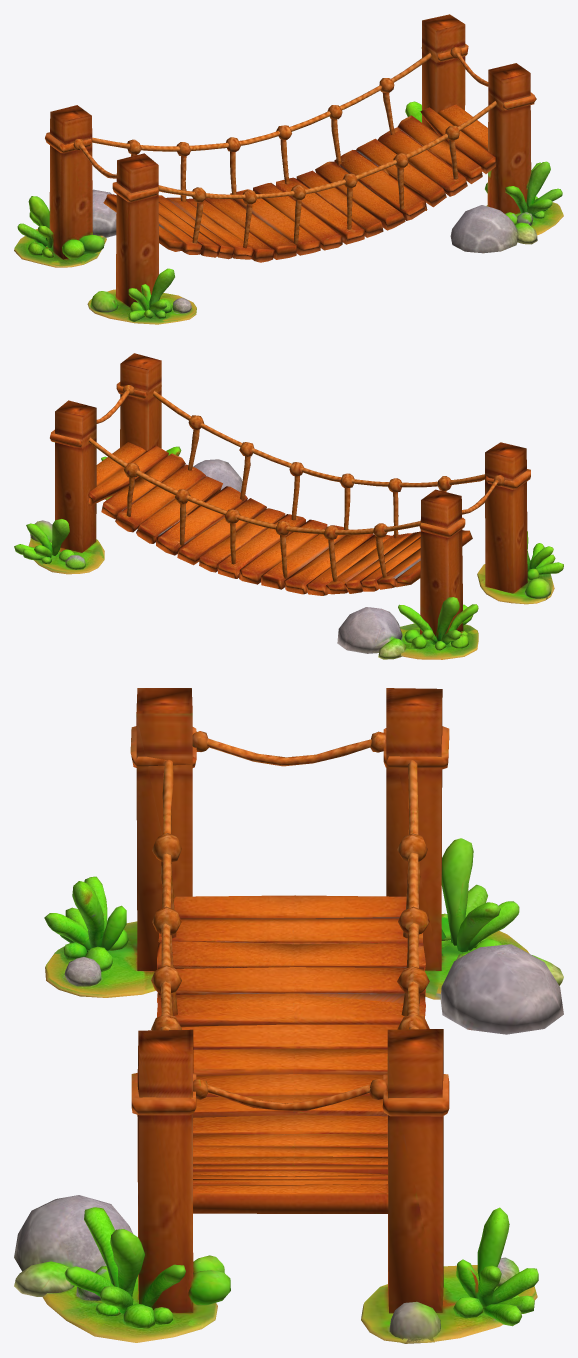
File: r2c6_rope_bridge.glb
The picture shows the model from 3 angles, top to bottom: view 1: azimuth 30°, elevation 25°; view 2: azimuth 150°, elevation 25°; view 3: azimuth 270°, elevation 25°; orthographic projection. The views are drawn at different scales.
Size of the model in its own units: 1 by 0.293 by 0.5527.
1 material, 1 textured.
